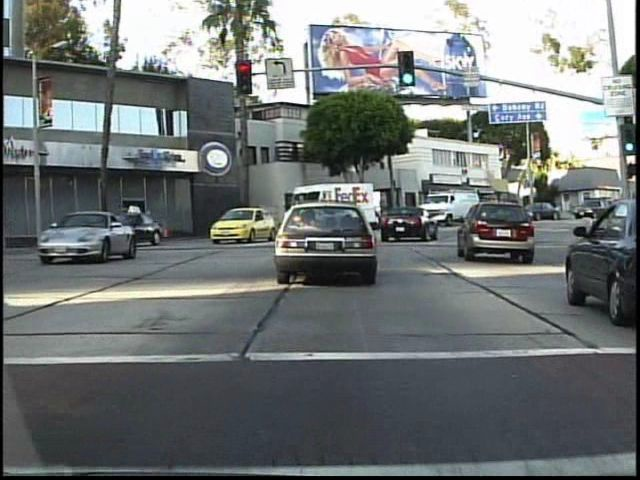person: (247, 201, 265, 229)
